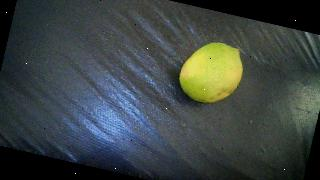DESECHO: (175, 35, 248, 109)
